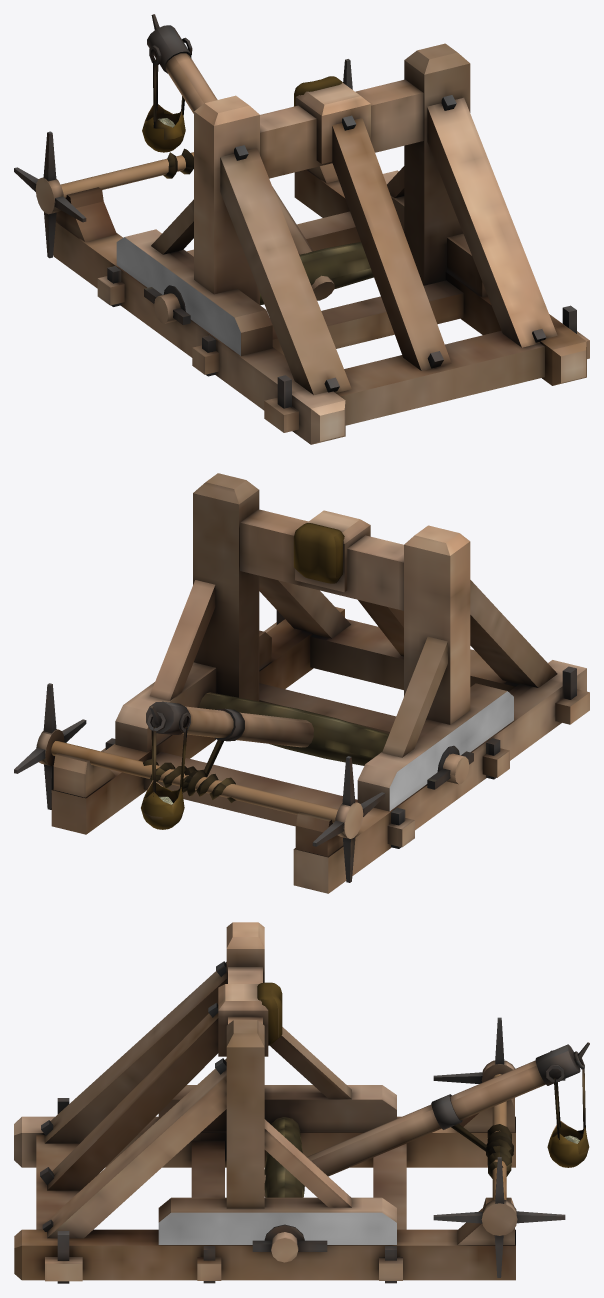
File: 0ad-ancient.5dec8b5eb0ab.onager.glb
3 renders of one model, top to bottom at view 1: azimuth 30°, elevation 25°; view 2: azimuth 150°, elevation 25°; view 3: azimuth 270°, elevation 25°, orthographic. The views are drawn at different scales.
Parts seen in each view (by area): view 1: units/romans/siege_onager.xml; view 2: units/romans/siege_onager.xml; view 3: units/romans/siege_onager.xml.
Part boxes in pixels (left/top/right/bottom): units/romans/siege_onager.xml: left=14, top=14, right=589, bottom=444; units/romans/siege_onager.xml: left=14, top=473, right=589, bottom=893; units/romans/siege_onager.xml: left=14, top=922, right=589, bottom=1283.
Size of the model in its own units: 6.8 by 5.25 by 11.5.
1 material, 1 textured.
